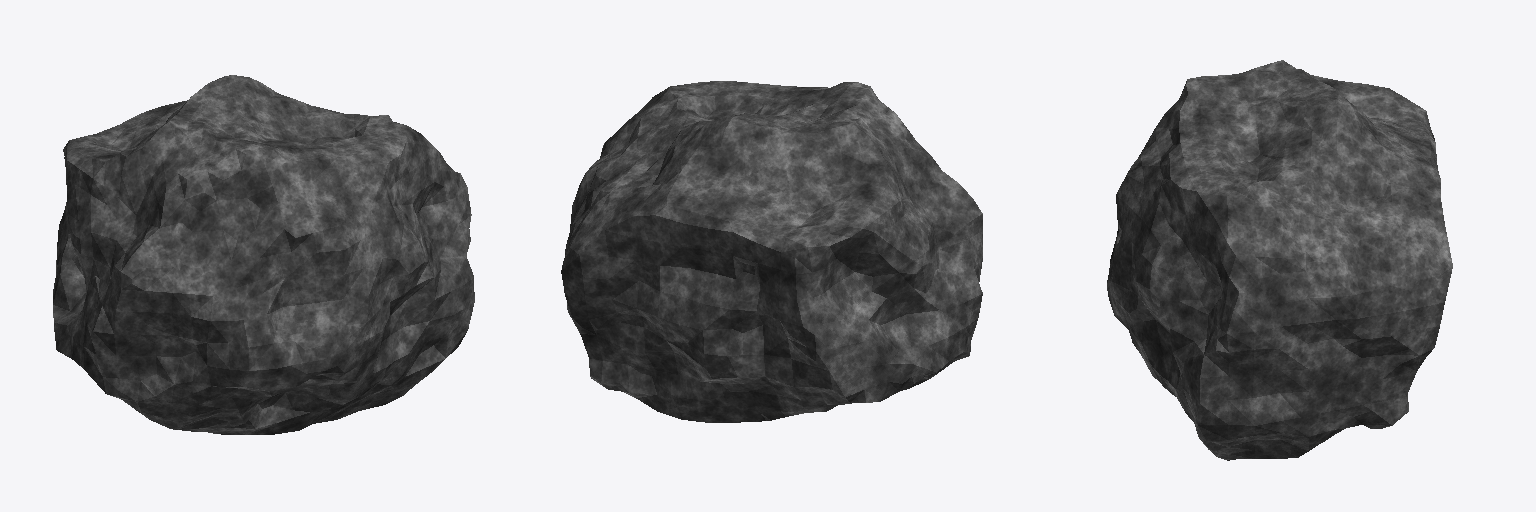
The picture shows the model from 3 angles: view 1: azimuth 30°, elevation 25°; view 2: azimuth 150°, elevation 25°; view 3: azimuth 270°, elevation 25°; orthographic projection.
Parts seen in each view (by area): view 1: Asteroid02_Low; view 2: Asteroid02_Low; view 3: Asteroid02_Low.
Part boxes in pixels (left/top/right/bottom): Asteroid02_Low: left=53, top=75, right=474, bottom=434; Asteroid02_Low: left=561, top=81, right=982, bottom=422; Asteroid02_Low: left=1107, top=60, right=1452, bottom=460.
Size of the model in its own units: 5.08 by 4.06 by 4.03.
Materials: 1 (1 with a texture image).